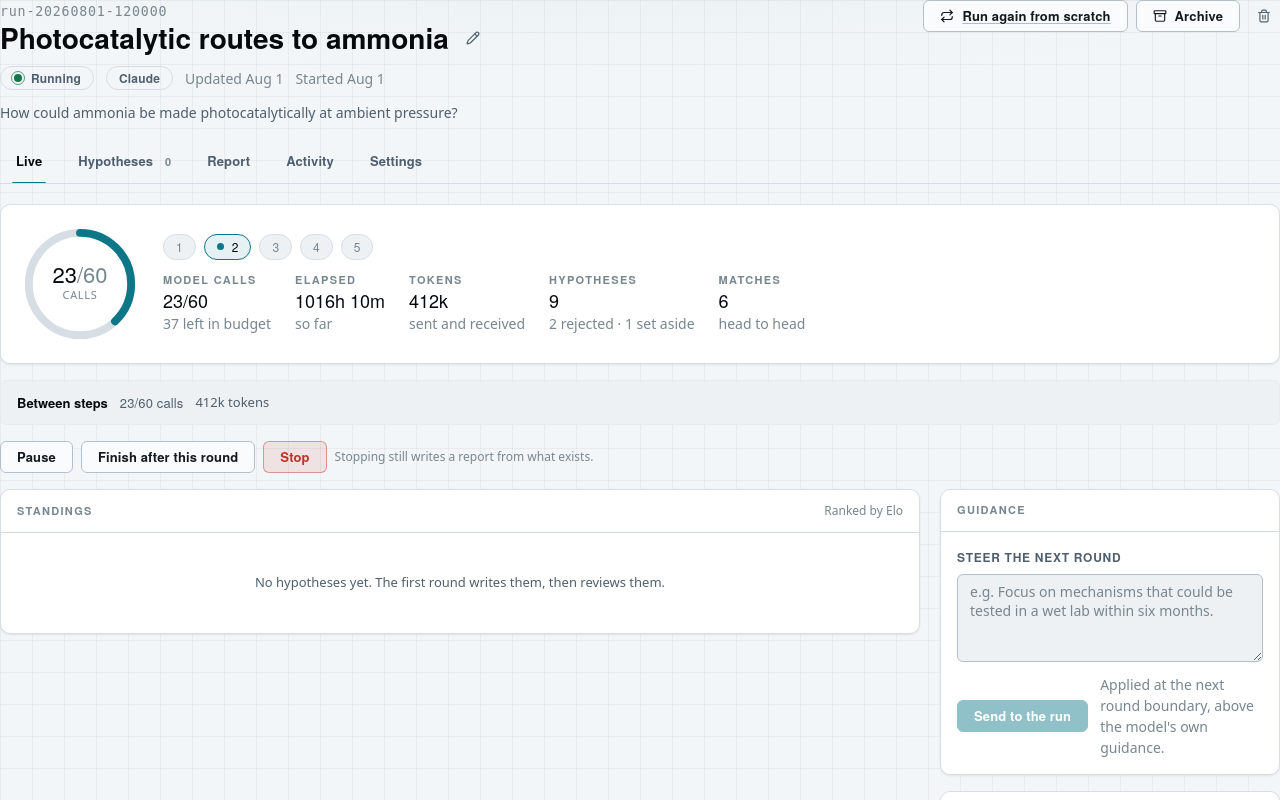
Test: stopping asks first › names the run and how far it has got, and does nothing on cancel
Click the button "Stop" at (295, 457), box 263,441 -> 327,473
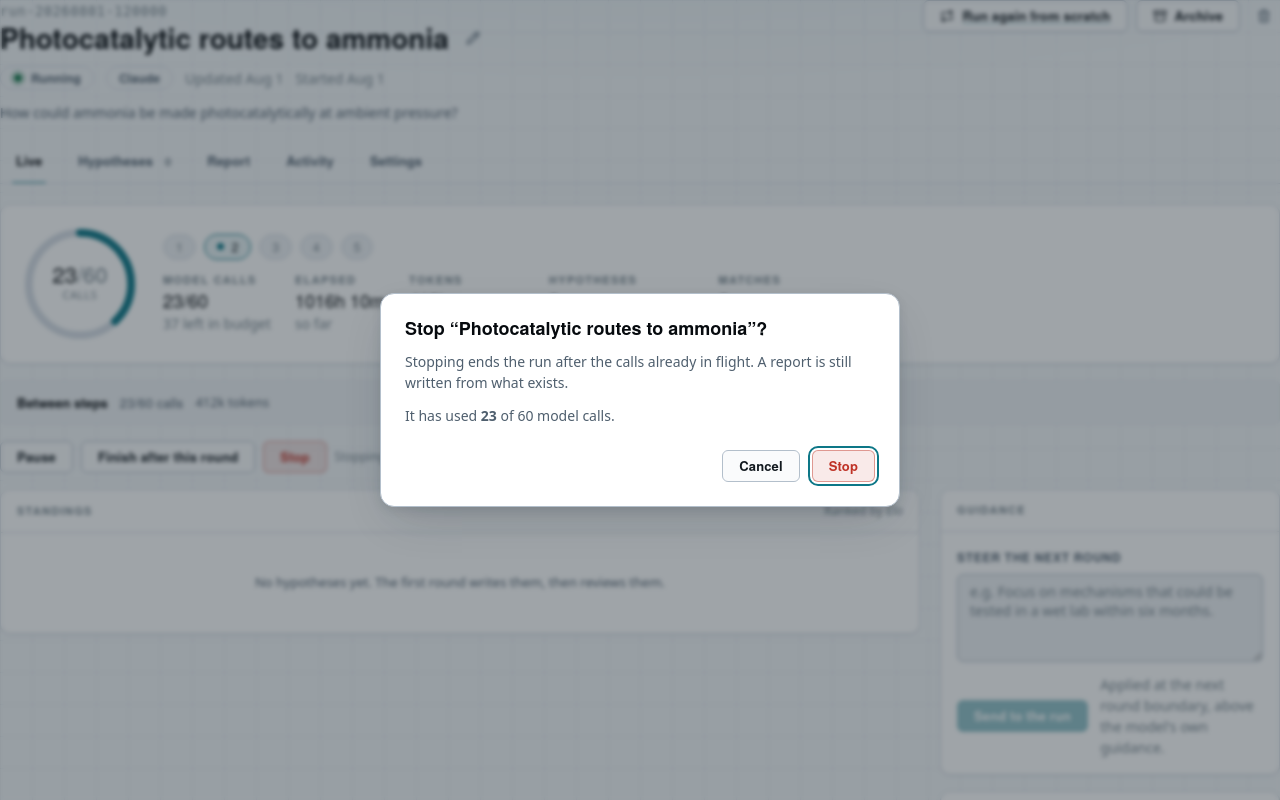
expect the dialog shows "Photocatalytic routes to ammonia": met, box 405,315 -> 767,341
expect the dialog shows "23": met, box 481,406 -> 497,425
expect the dialog shows "report is still written": met, box 405,352 -> 852,392
Click the button "Cancel" at (761, 466), box 722,450 -> 800,482
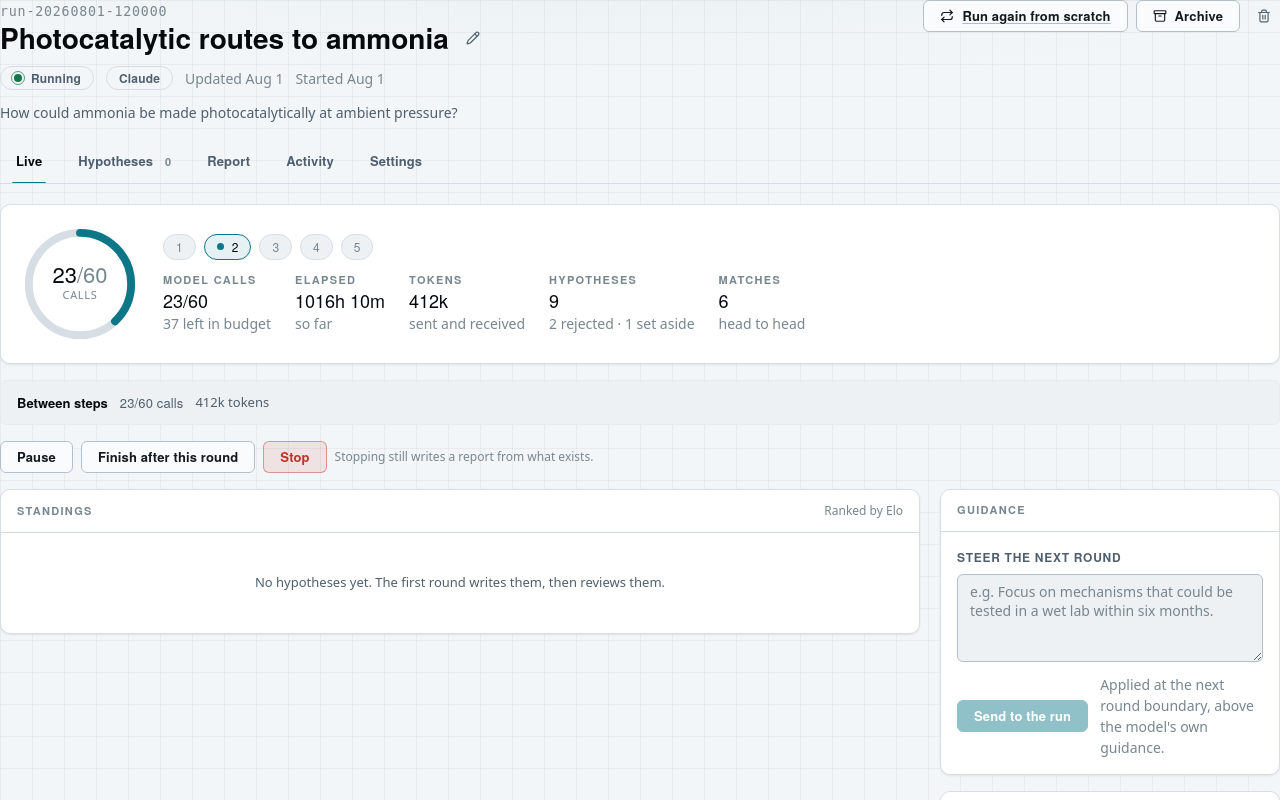
expect the dialog is gone: met
